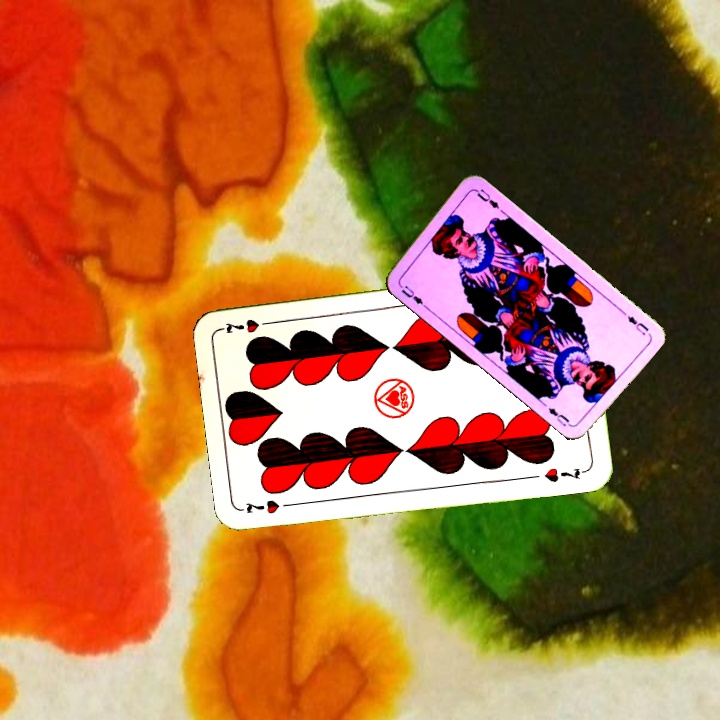EU: (395, 280, 429, 310), (623, 312, 651, 338)
H7: (239, 495, 299, 517)
